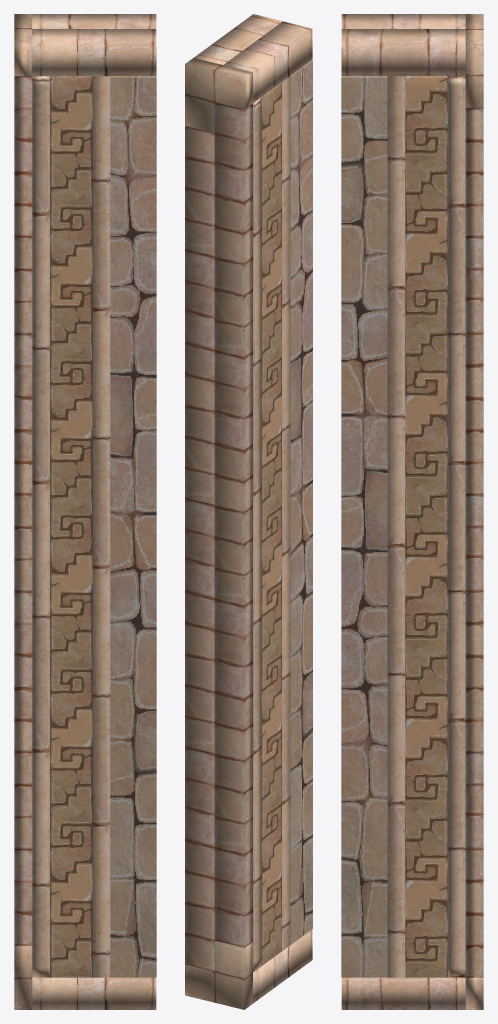
The model's file is MeganeRealStep002.obj.
3 views of the same model, side by side, from view 1: azimuth 90°, elevation 25°; view 2: azimuth 150°, elevation 25°; view 3: azimuth 270°, elevation 25° (orthographic). The views are drawn at different scales.
Visible parts, largest first — view 1: pasted__polySurface458_1__EdgeStoneBlock02, pasted__SandWorldHomeMeganeStep004__WallBrickBase04, polySurface1__ReliefStonePattern01, pasted__Edge00_Low596__EdgeStoneBlock03; view 2: pasted__polySurface458_1__EdgeStoneBlock02, pasted__SandWorldHomeMeganeStep004__WallBrickBase04, polySurface1__ReliefStonePattern01, pasted__Edge00_Low596__EdgeStoneBlock03; view 3: pasted__polySurface458_1__EdgeStoneBlock02, pasted__SandWorldHomeMeganeStep004__WallBrickBase04, polySurface1__ReliefStonePattern01, pasted__Edge00_Low596__EdgeStoneBlock03.
Boxes of the visible parts, bbox=[...] form: pasted__polySurface458_1__EdgeStoneBlock02: bbox=[14, 76, 110, 977]; pasted__SandWorldHomeMeganeStep004__WallBrickBase04: bbox=[110, 47, 156, 977]; polySurface1__ReliefStonePattern01: bbox=[50, 76, 92, 977]; pasted__Edge00_Low596__EdgeStoneBlock03: bbox=[14, 14, 156, 1009]; pasted__polySurface458_1__EdgeStoneBlock02: bbox=[185, 76, 290, 972]; pasted__SandWorldHomeMeganeStep004__WallBrickBase04: bbox=[290, 60, 312, 944]; polySurface1__ReliefStonePattern01: bbox=[261, 82, 281, 965]; pasted__Edge00_Low596__EdgeStoneBlock03: bbox=[185, 14, 312, 1009]; pasted__polySurface458_1__EdgeStoneBlock02: bbox=[387, 76, 483, 977]; pasted__SandWorldHomeMeganeStep004__WallBrickBase04: bbox=[341, 47, 387, 977]; polySurface1__ReliefStonePattern01: bbox=[405, 76, 447, 977]; pasted__Edge00_Low596__EdgeStoneBlock03: bbox=[341, 14, 483, 1009].
Bounding box in the file's own units: 200 × 3000 × 400.
5 materials, 4 textured.
